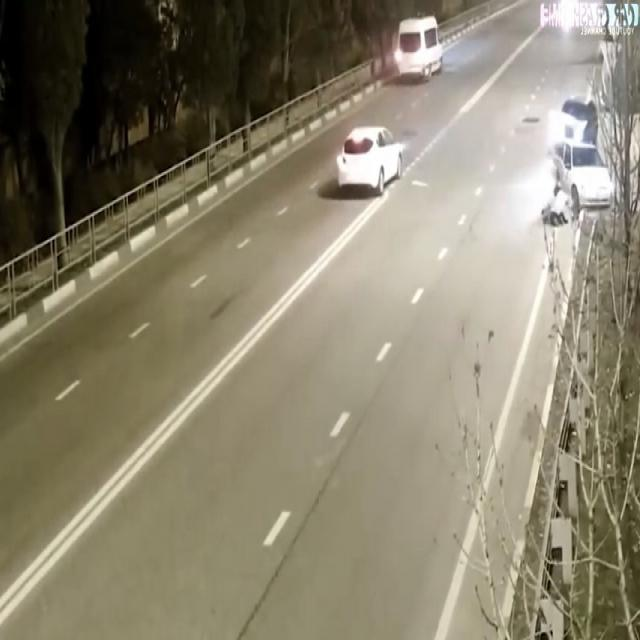multiple_accident: (536, 63, 623, 236)
